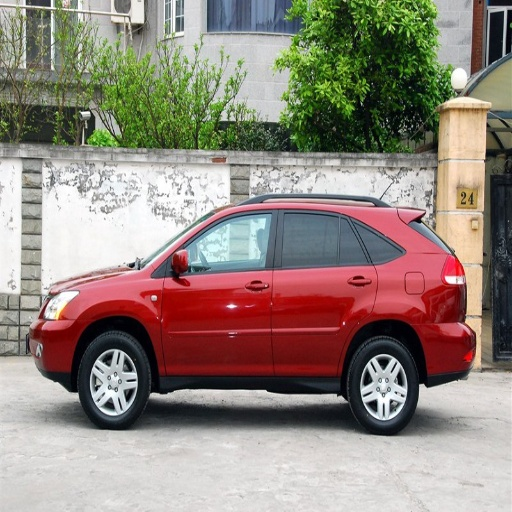_background_: (423, 323, 475, 378)
back_glass: (272, 206, 375, 376)
back_left_door: (444, 258, 465, 296)
front_glass: (164, 207, 277, 371)
trunk: (78, 330, 149, 428), (349, 336, 418, 433)
